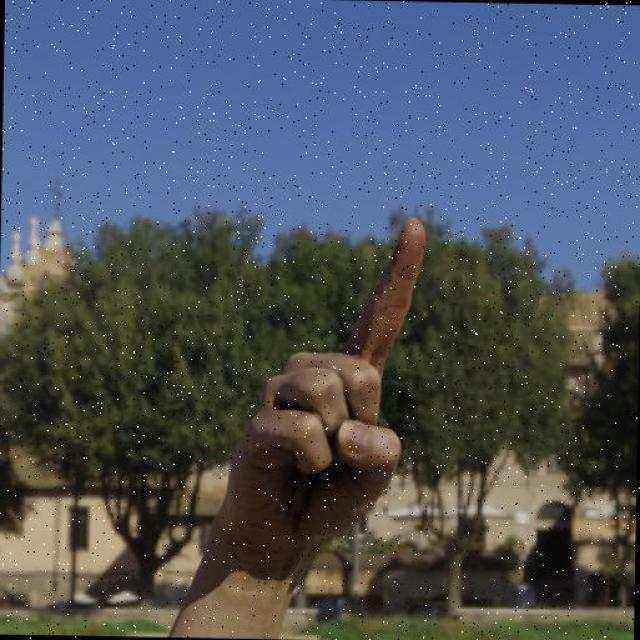Z: (209, 212, 430, 560)
